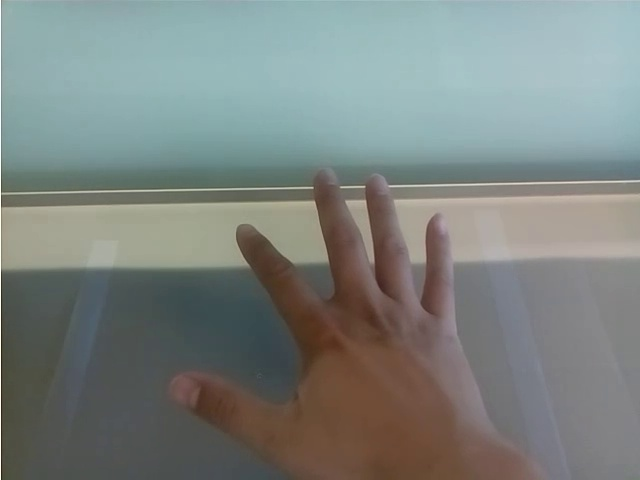hand: (156, 167, 495, 480)
